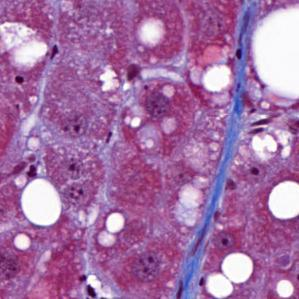inflammation: (116, 59, 147, 90), (76, 272, 110, 299), (244, 116, 274, 139)
